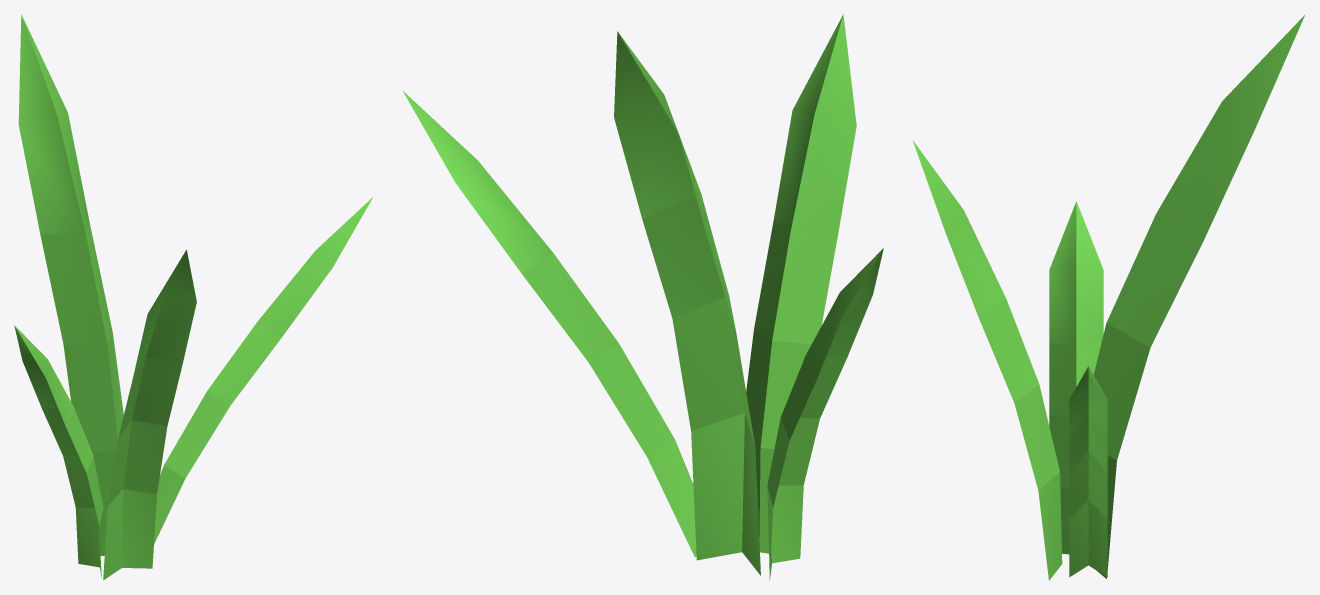
The model's file is Grass.fbx.
3 renders of one model, left to right at view 1: azimuth 30°, elevation 25°; view 2: azimuth 150°, elevation 25°; view 3: azimuth 270°, elevation 25°, orthographic. The views are drawn at different scales.
Parts seen in each view (by area): view 1: GrassBlade; view 2: GrassBlade; view 3: GrassBlade.
Boxes of the visible parts, x1,y1,x2,y2 form: GrassBlade: (14,14,372,580); GrassBlade: (402,14,883,580); GrassBlade: (912,15,1304,580).
Bounding box in the file's own units: 739 × 927 × 595.
